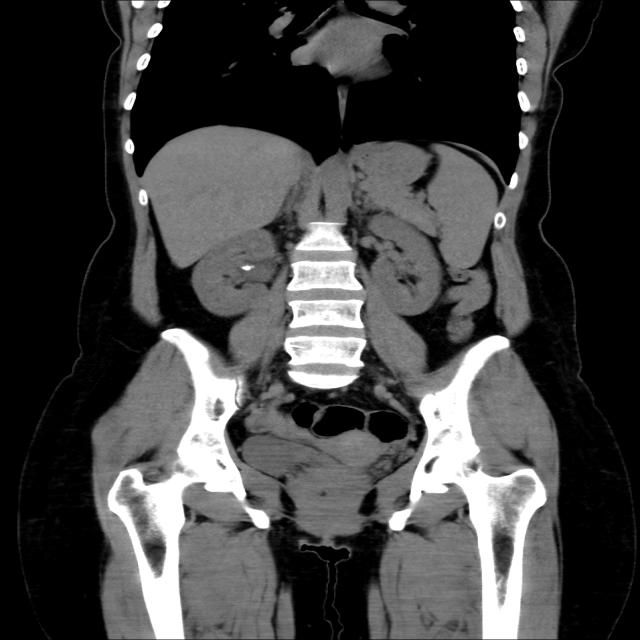kidneystone: (241, 265, 255, 271)
